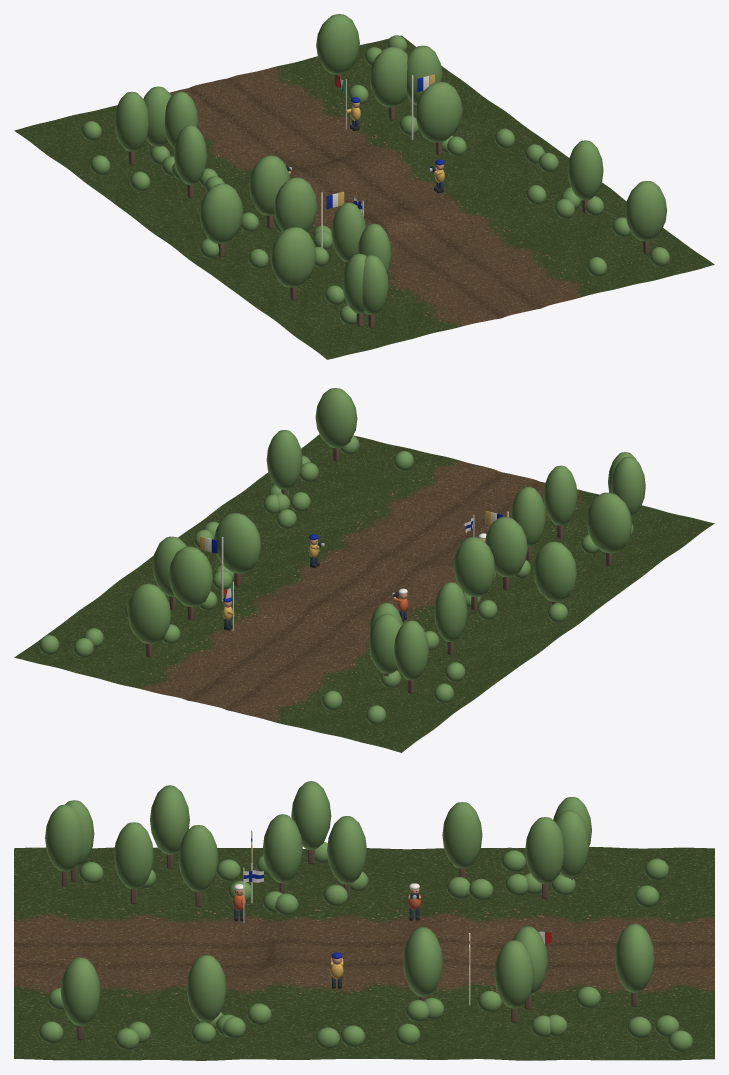
File: environment.glb
3 renders of one model, top to bottom at view 1: azimuth 30°, elevation 25°; view 2: azimuth 150°, elevation 25°; view 3: azimuth 270°, elevation 25°, orthographic. The views are drawn at different scales.
Parts seen in each view (by area): view 1: terrain, clay_tree, tree_trunk, flag_pole; view 2: terrain, clay_tree, tree_trunk, flag_pole; view 3: terrain, clay_tree, tree_trunk, gravel, flag_pole.
Part boxes in pixels (box(x1,y1,x2,y2)): terrain: box(14, 35, 714, 359); clay_tree: box(81, 14, 669, 324); tree_trunk: box(128, 74, 649, 328); flag_pole: box(321, 75, 428, 247); terrain: box(14, 434, 714, 752); clay_tree: box(39, 388, 645, 724); tree_trunk: box(146, 448, 631, 693); flag_pole: box(206, 511, 508, 631); terrain: box(14, 847, 714, 1060); clay_tree: box(38, 781, 693, 1051); tree_trunk: box(62, 850, 637, 1039); gravel: box(40, 908, 690, 998); flag_pole: box(234, 830, 470, 1005).
Bounding box in the file's own units: 20 × 3.76 × 28.
Materials: 15 (1 with a texture image).
